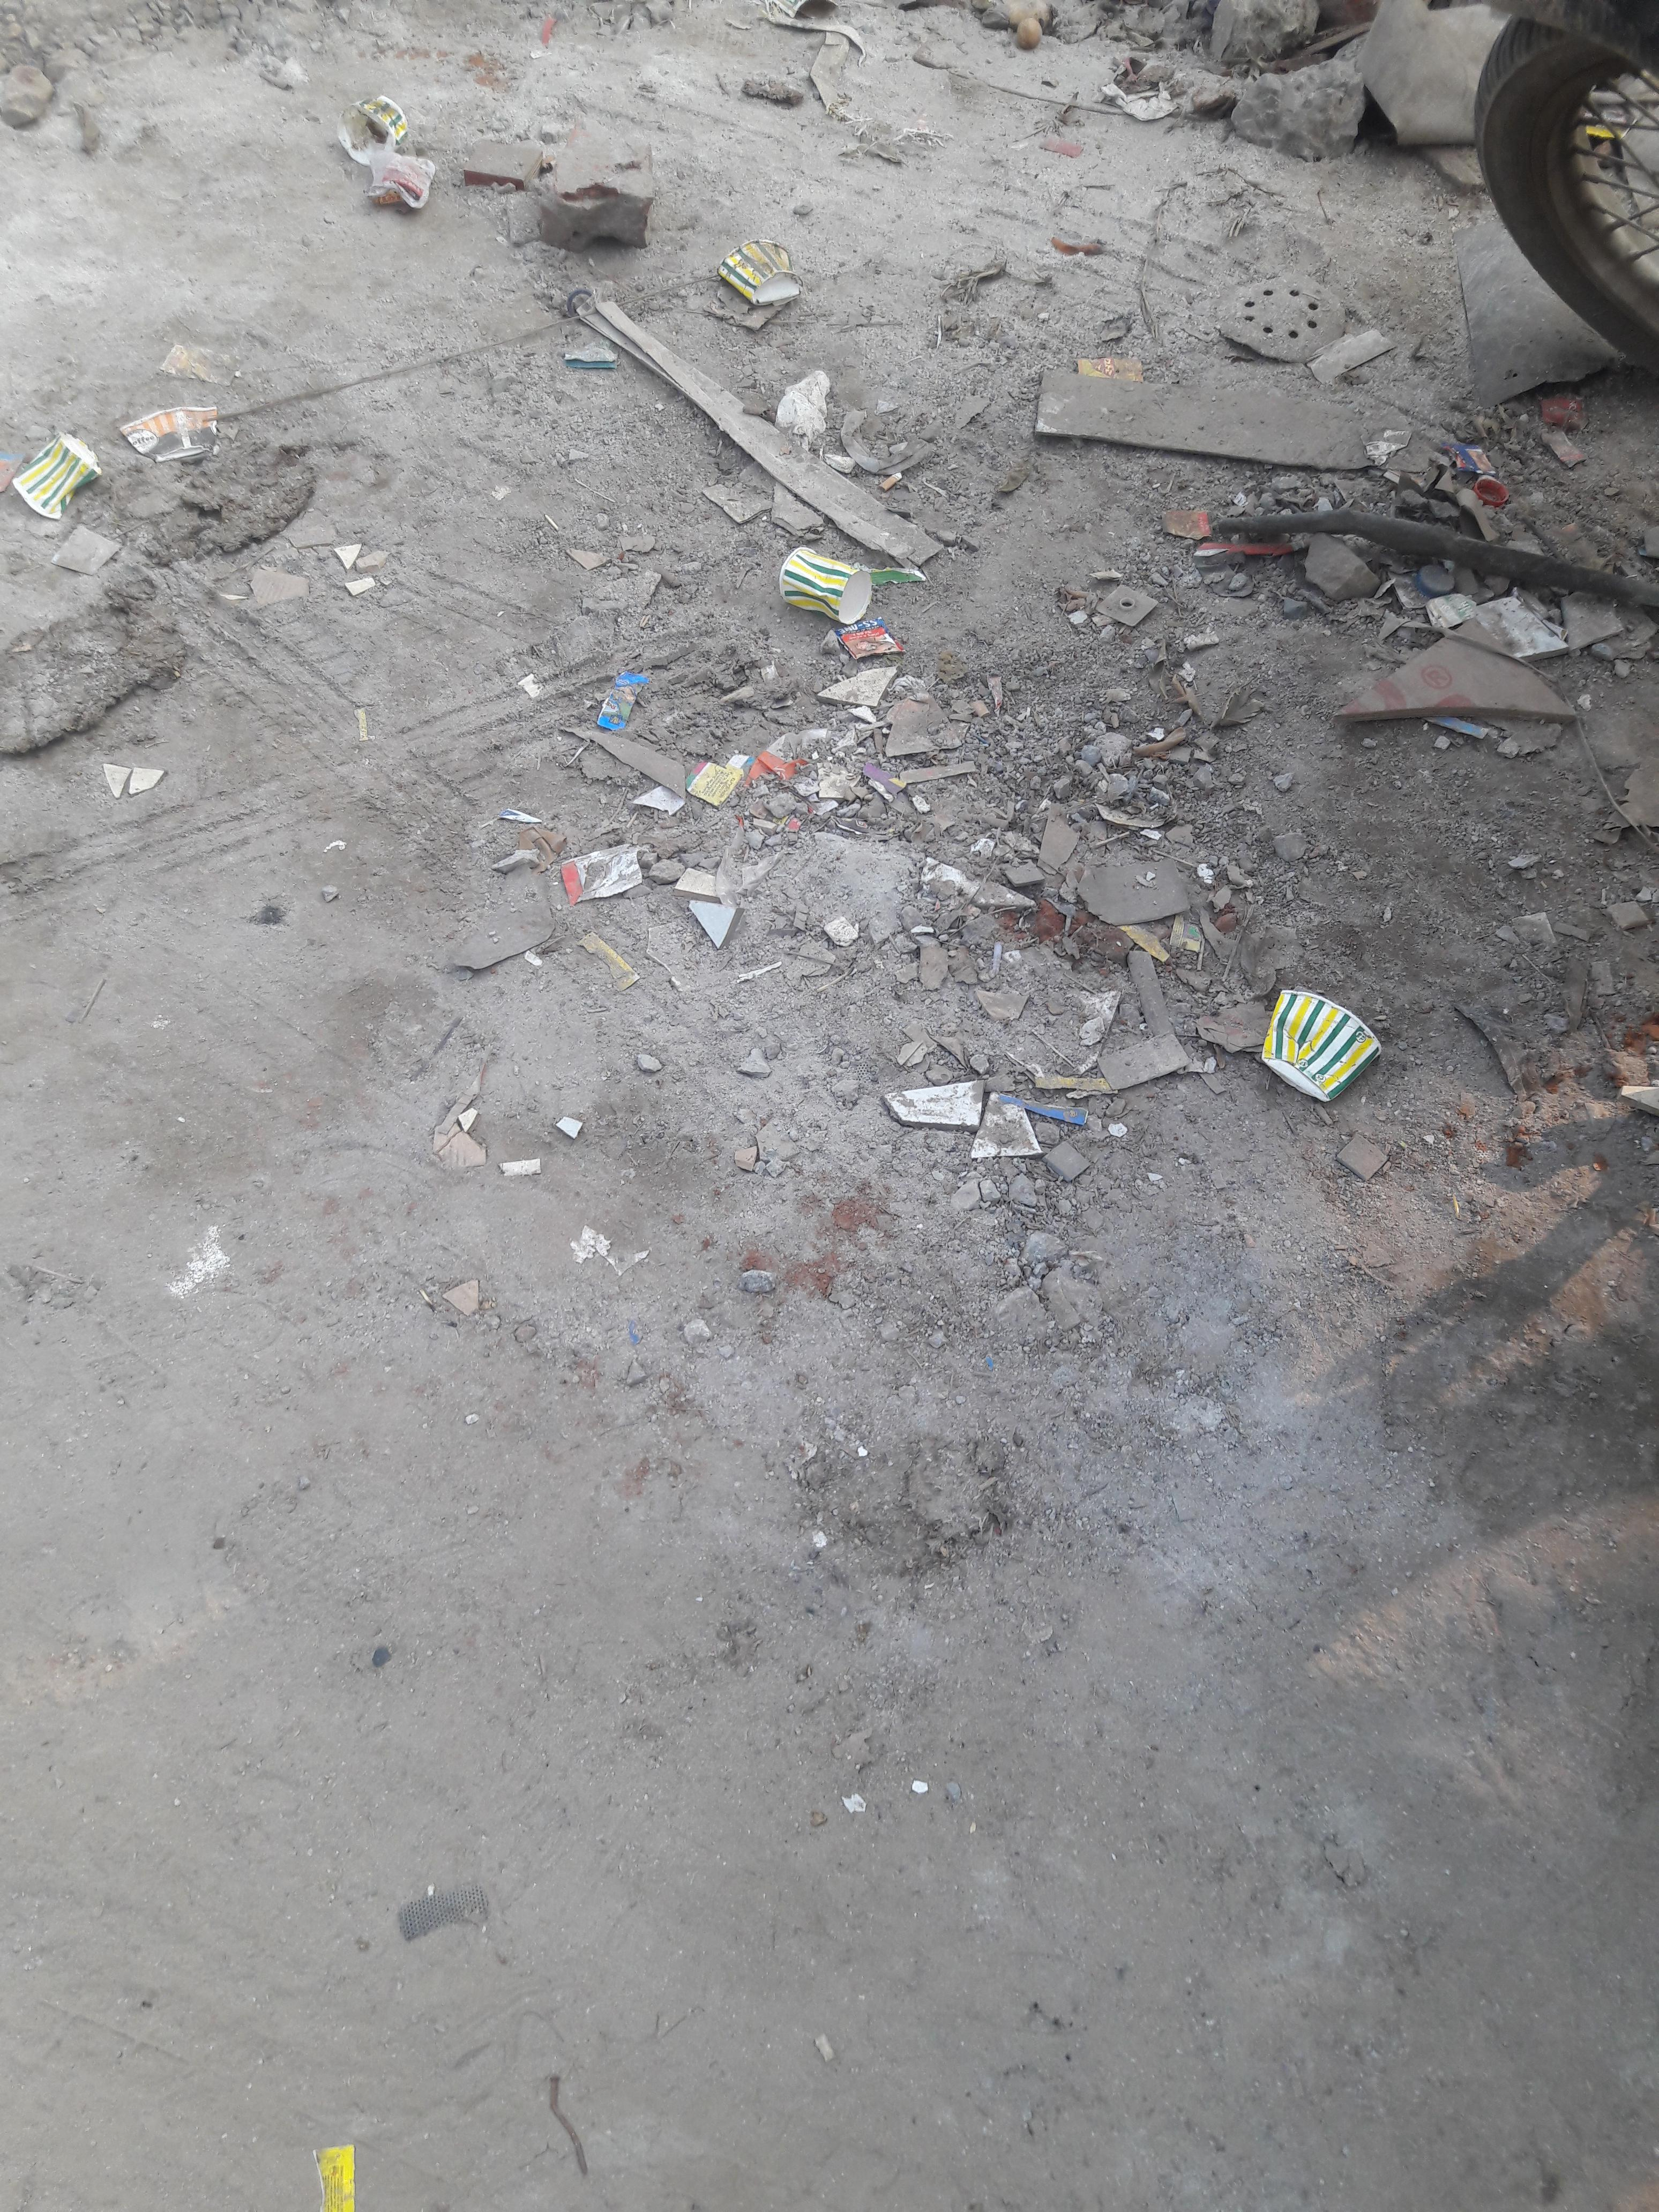trash: (537, 246, 1399, 1143)
